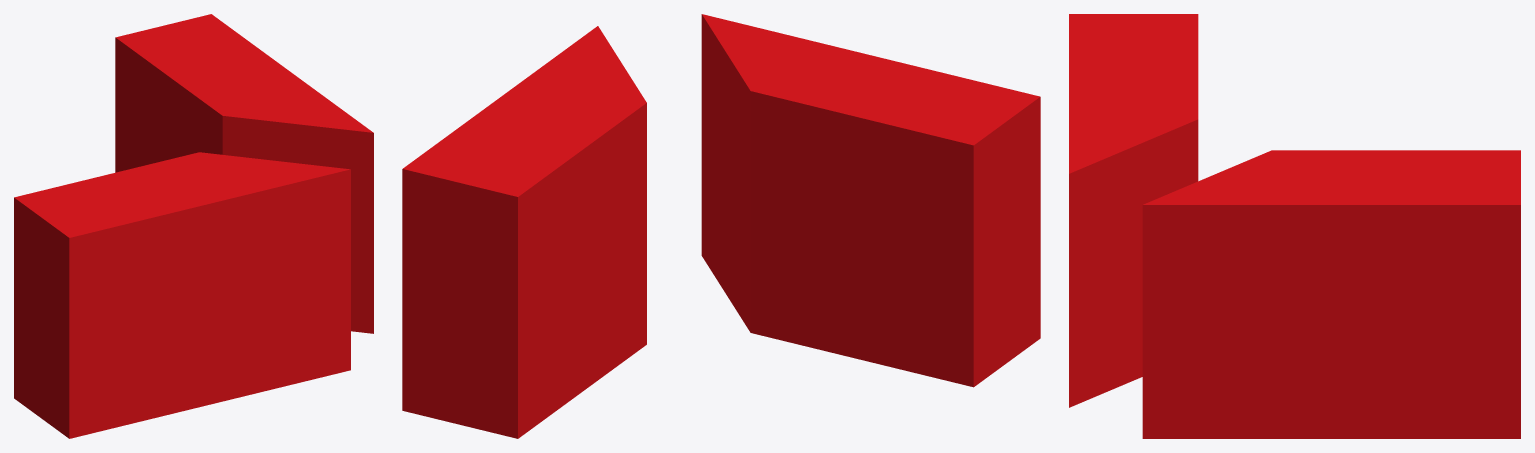
The picture shows the model from 3 angles, left to right: view 1: azimuth 30°, elevation 25°; view 2: azimuth 150°, elevation 25°; view 3: azimuth 270°, elevation 25°; orthographic projection. The views are drawn at different scales.
Parts seen in each view (by area): view 1: Cube.038; view 2: Cube.038; view 3: Cube.038.
Boxes of the visible parts, x1,y1,x2,y2 form: Cube.038: (14, 14, 373, 438); Cube.038: (402, 14, 1040, 438); Cube.038: (1069, 14, 1520, 438).
Bounding box in the file's own units: 350 × 200 × 350.
